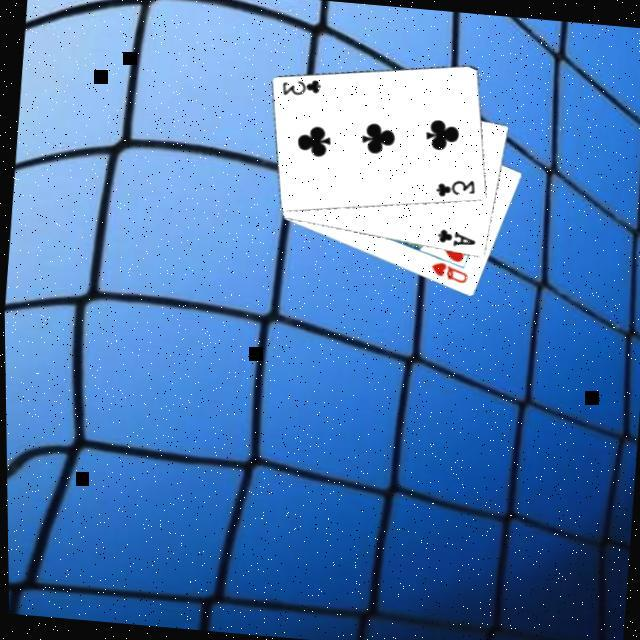3C: (280, 74, 326, 102), (434, 175, 479, 202)
AC: (434, 226, 480, 252)
QH: (428, 260, 472, 288)
